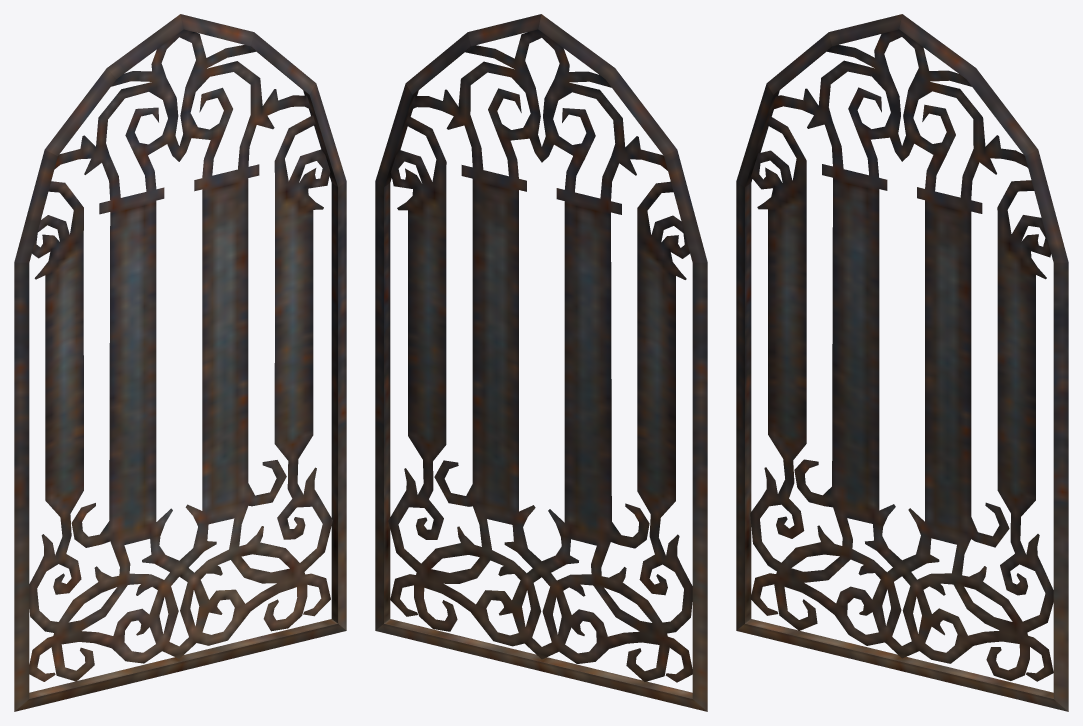
File: SM_Plains_CastleArch_Iron_Gate_01.FBX
The picture shows the model from 3 angles, left to right: view 1: azimuth 30°, elevation 25°; view 2: azimuth 150°, elevation 25°; view 3: azimuth 330°, elevation 25°; orthographic projection.
Parts seen in each view (by area): view 1: SM_Plains_CastleArch_Iron_Gate_01; view 2: SM_Plains_CastleArch_Iron_Gate_01; view 3: SM_Plains_CastleArch_Iron_Gate_01.
Boxes of the visible parts, x1=… form: SM_Plains_CastleArch_Iron_Gate_01: x1=14, y1=14, x2=346, y2=711; SM_Plains_CastleArch_Iron_Gate_01: x1=375, y1=14, x2=707, y2=711; SM_Plains_CastleArch_Iron_Gate_01: x1=736, y1=14, x2=1068, y2=711.
Size of the model in its own units: 63.44 by 120 by 2.16.
